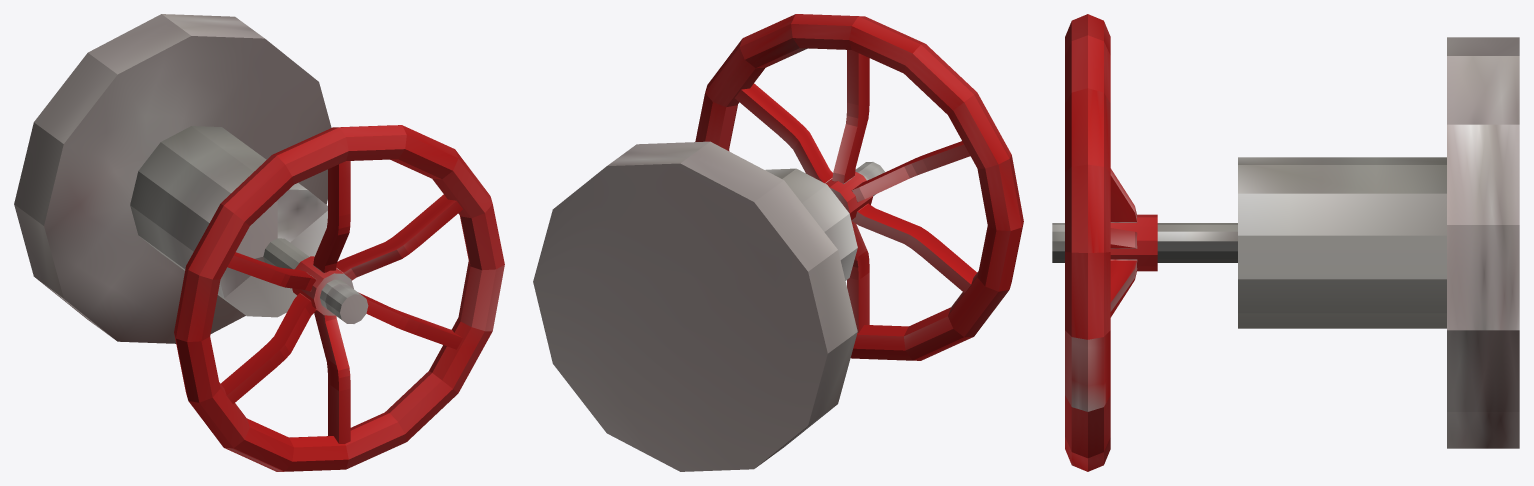
The model's file is Valve.fbx.
The picture shows the model from 3 angles, left to right: view 1: azimuth 30°, elevation 25°; view 2: azimuth 150°, elevation 25°; view 3: azimuth 270°, elevation 25°; orthographic projection. The views are drawn at different scales.
Visible parts, largest first — view 1: Cylinder, Cube.031, Cylinder.001; view 2: Cylinder, Cube.031, Cylinder.001; view 3: Cylinder, Cube.031, Cylinder.001.
Boxes of the visible parts, x1=… form: Cylinder: x1=14, y1=14, x2=504, y2=471; Cube.031: x1=220, y1=161, x2=462, y2=443; Cylinder.001: x1=292, y1=256, x2=353, y2=315; Cylinder: x1=533, y1=14, x2=1023, y2=471; Cube.031: x1=735, y1=50, x2=977, y2=332; Cylinder.001: x1=825, y1=171, x2=873, y2=220; Cylinder: x1=1052, y1=14, x2=1519, y2=471; Cube.031: x1=1110, y1=168, x2=1137, y2=317; Cylinder.001: x1=1110, y1=214, x2=1157, y2=271.
Bounding box in the file's own units: 222 × 222 × 226.
1 material, 1 textured.
